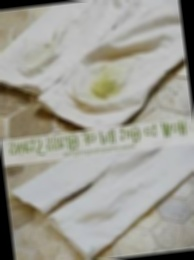earth: (92, 70, 123, 98)
